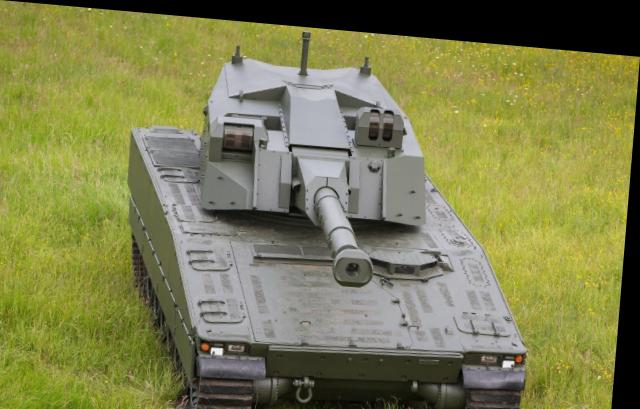tank: (108, 9, 552, 408)
